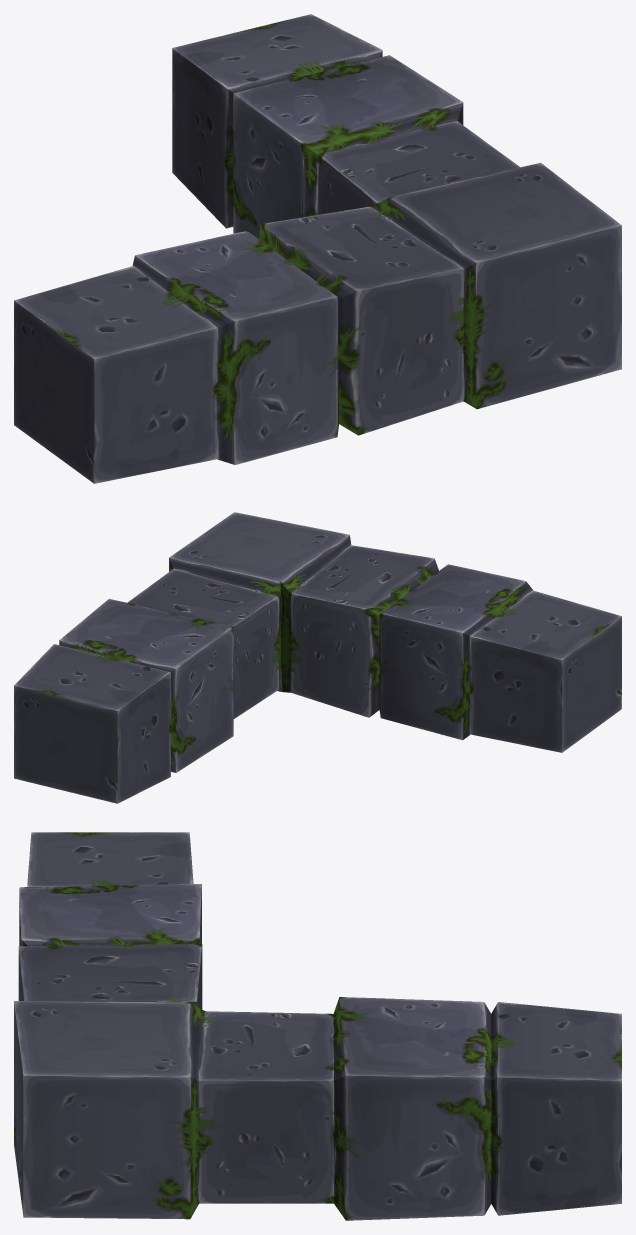
Rendered from MOD_WallCover_01_E_corner_convex_2.fbx.
The picture shows the model from 3 angles, top to bottom: view 1: azimuth 30°, elevation 25°; view 2: azimuth 150°, elevation 25°; view 3: azimuth 270°, elevation 25°; orthographic projection. The views are drawn at different scales.
Visible parts, largest first — view 1: MOD_WallCover_01_E_corner_convex_2; view 2: MOD_WallCover_01_E_corner_convex_2; view 3: MOD_WallCover_01_E_corner_convex_2.
Part boxes in pixels (bbox=[...]): MOD_WallCover_01_E_corner_convex_2: bbox=[14, 14, 621, 483]; MOD_WallCover_01_E_corner_convex_2: bbox=[14, 512, 621, 803]; MOD_WallCover_01_E_corner_convex_2: bbox=[14, 832, 621, 1220].
Bounding box in the file's own units: 266 × 70.91 × 269.
